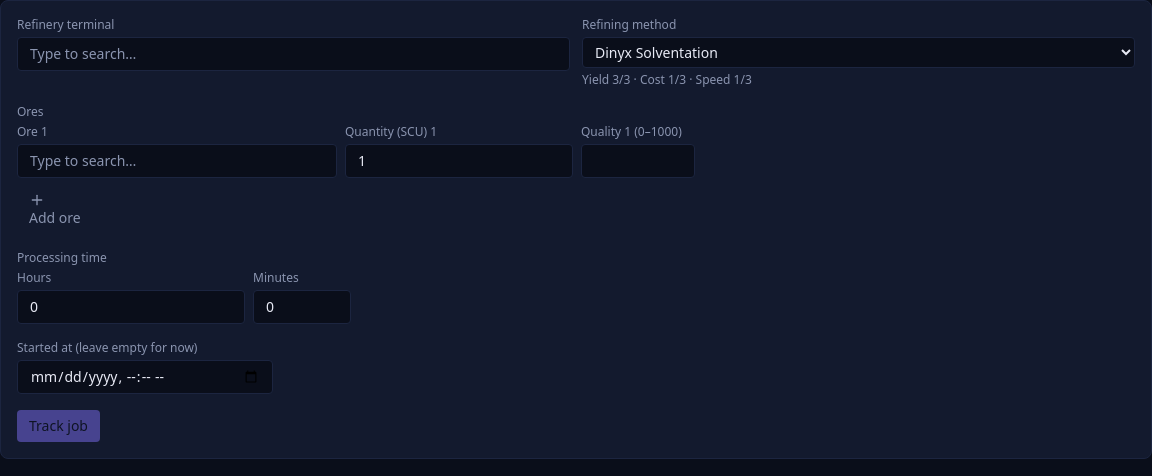
RefineryJobForm › keeps the submit disabled until terminal and ores are picked
Replace the text in the number field labelled "Minutes" with "45" at (302, 307), box [253,290,351,324]
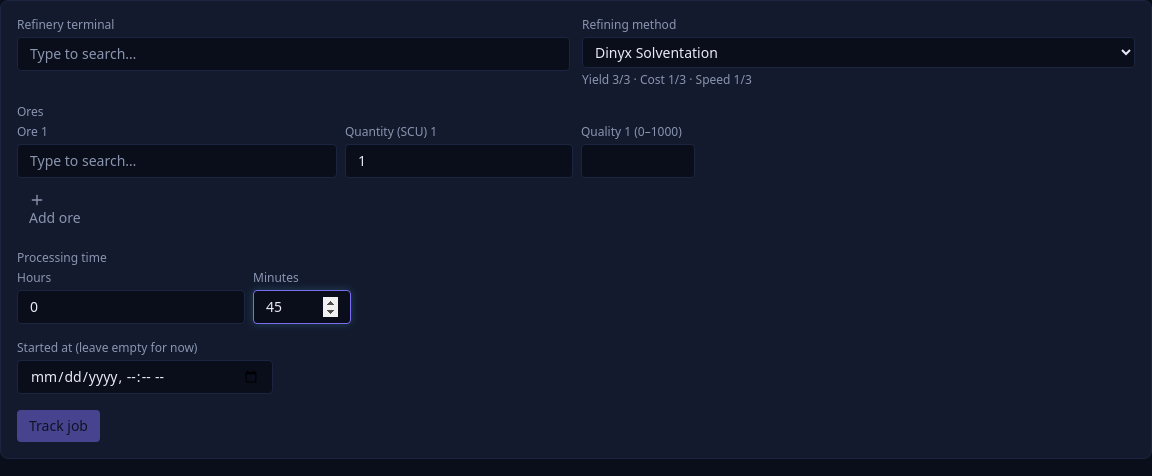
Expected: the button "Track job" is disabled, [17,410,100,442]
Type "wide" into the dropdown labelled "Refinery terminal" at (294, 54), box [17,37,570,71]
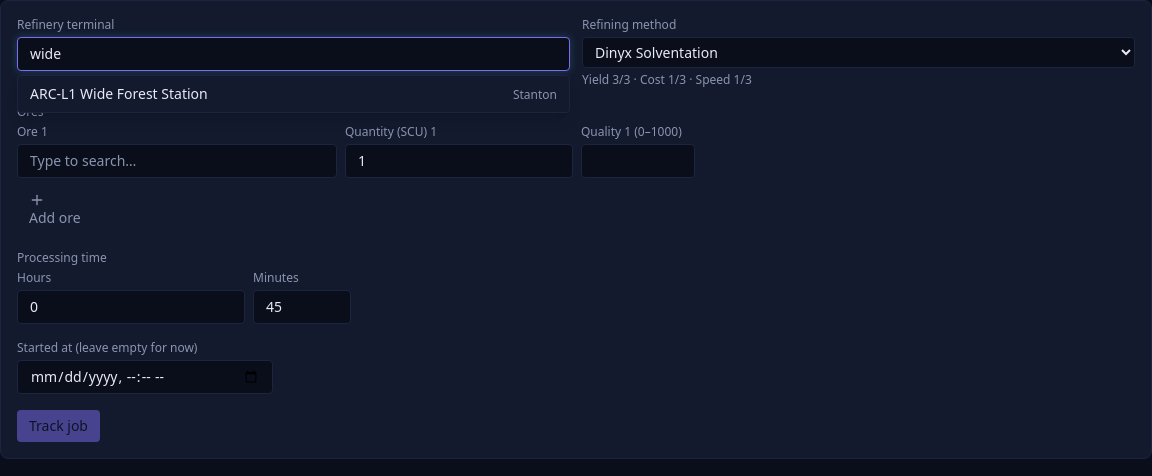
Click the option "ARC-L1 Wide Forest Station Stanton" at (119, 94), box [30,84,557,103]
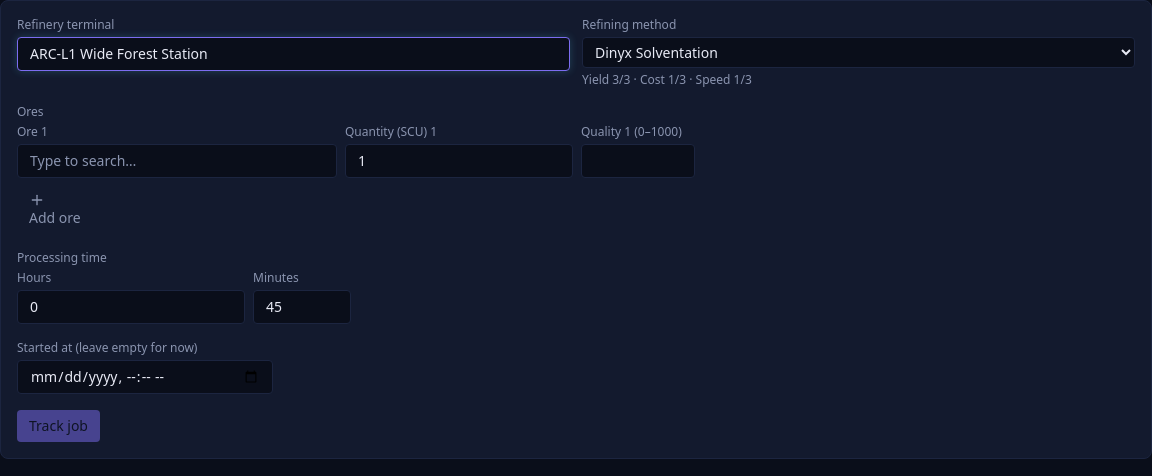
Expected: the button "Track job" is disabled, [17,410,100,442]
Type "quan" into the dropdown labelled "Ore 1" at (177, 161), box [17,144,337,178]
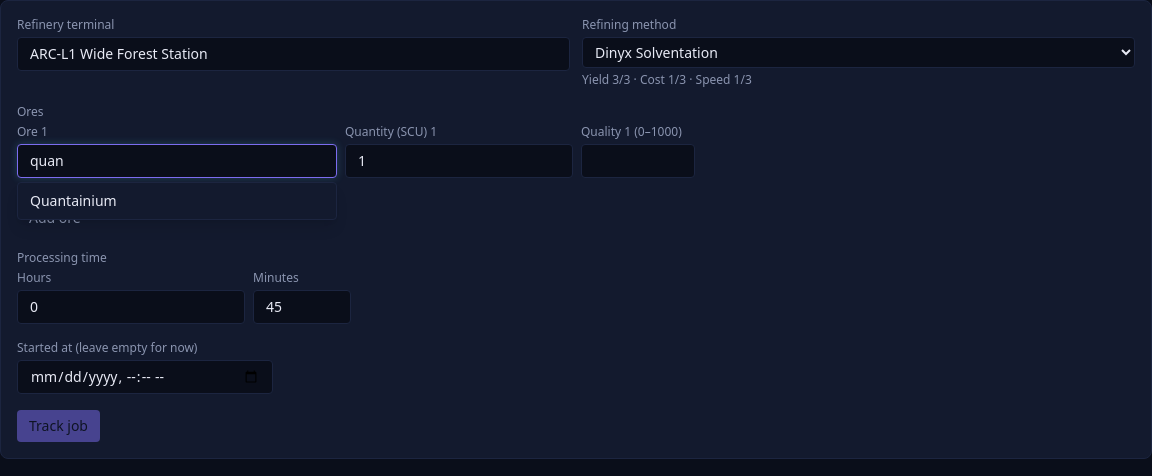
Click the option "Quantainium" at (73, 200), box [30,191,117,210]
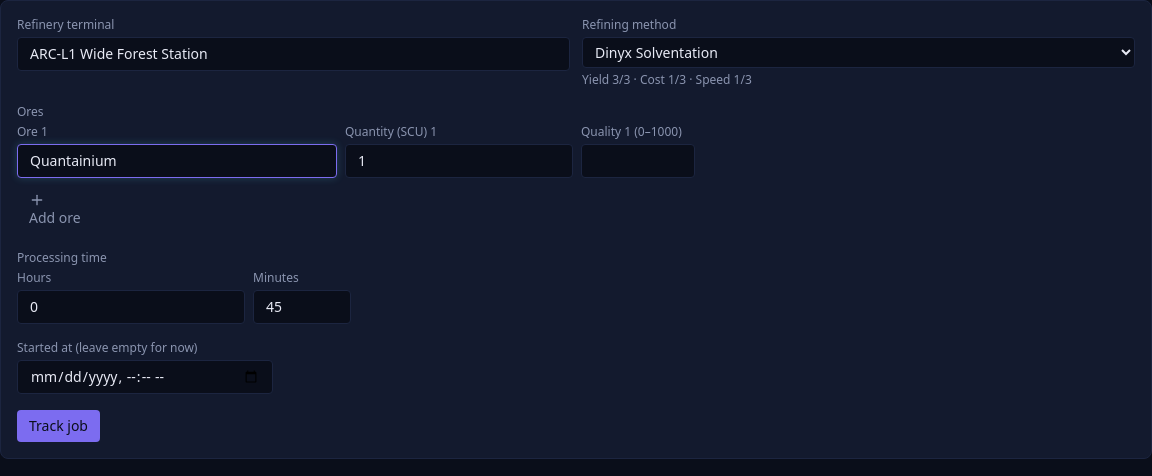
Expected: the button "Track job" is enabled, [17,410,100,442]
